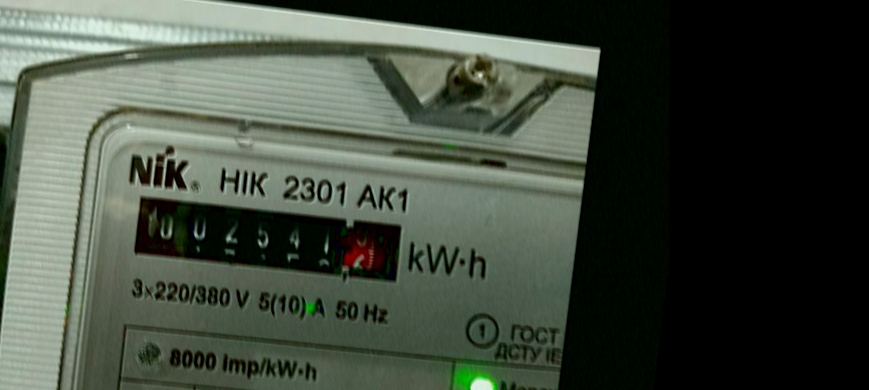0: (187, 209, 210, 244), (156, 211, 176, 242)
1: (314, 222, 334, 256)
2: (218, 211, 243, 248)
4: (284, 219, 304, 252)
5: (252, 218, 271, 251)
6: (348, 250, 366, 273)
screen: (115, 177, 424, 304)
